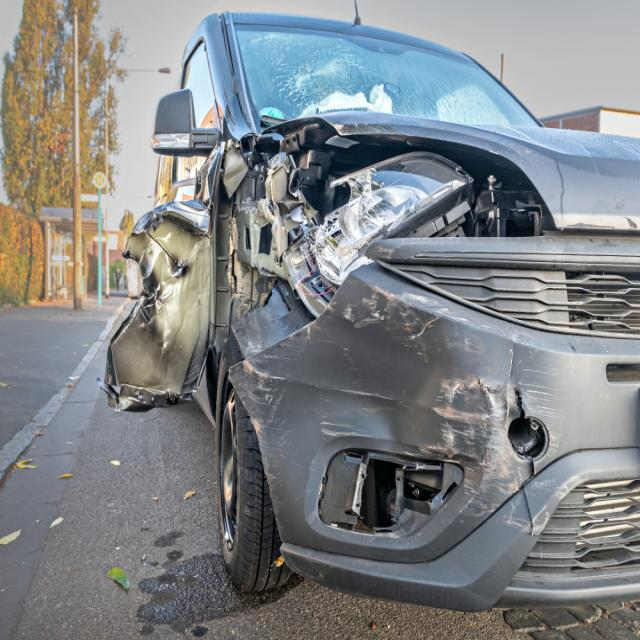dent: (249, 283, 437, 441), (118, 204, 210, 399)
glass shatter: (235, 24, 541, 133)
lamp broken: (313, 150, 481, 284)
scratch: (432, 372, 530, 530), (522, 359, 563, 463)
